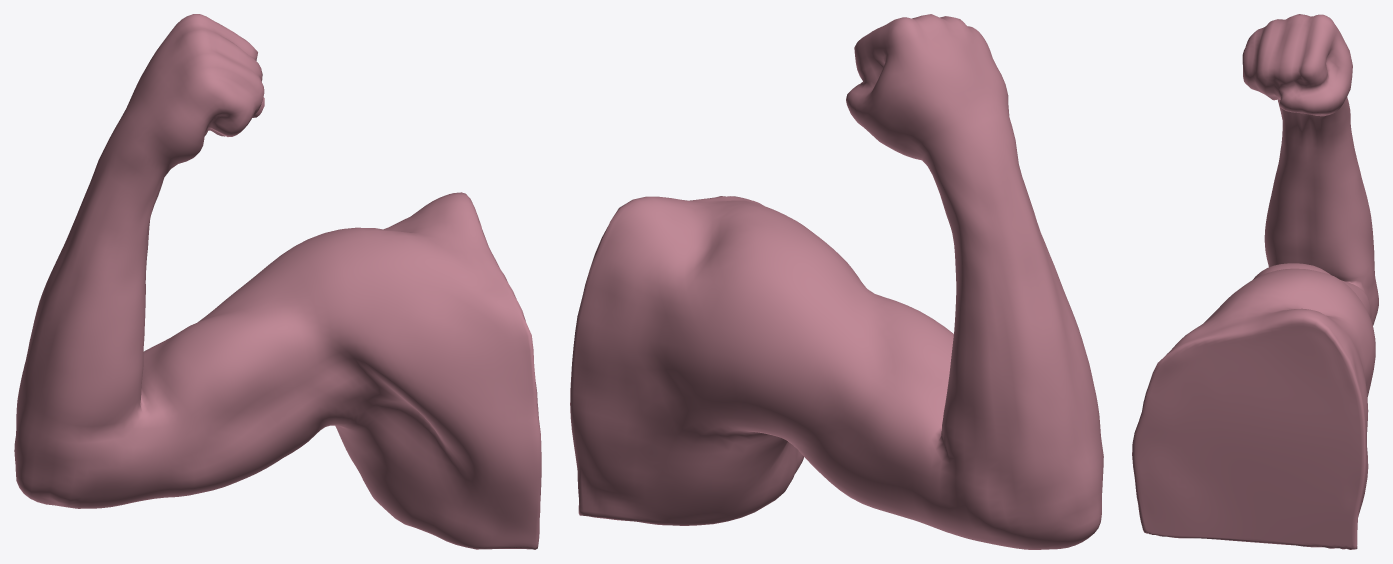
Rendered from arm.fbx.
3 views of the same model, side by side, from view 1: azimuth 30°, elevation 25°; view 2: azimuth 150°, elevation 25°; view 3: azimuth 270°, elevation 25° (orthographic). The views are drawn at different scales.
Visible parts, largest first — view 1: arm_low:ZBrush_defualt_group; view 2: arm_low:ZBrush_defualt_group; view 3: arm_low:ZBrush_defualt_group.
Part boxes in pixels (left/top/right/bottom): arm_low:ZBrush_defualt_group: left=14, top=14, right=541, bottom=549; arm_low:ZBrush_defualt_group: left=570, top=14, right=1103, bottom=549; arm_low:ZBrush_defualt_group: left=1132, top=14, right=1378, bottom=549.
Bounding box in the file's own units: 598 × 641 × 337.
